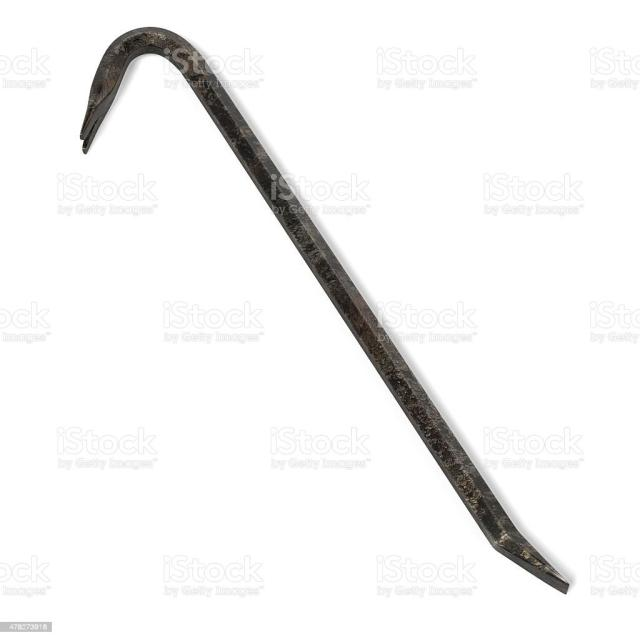Linggis: (83, 26, 572, 595)
